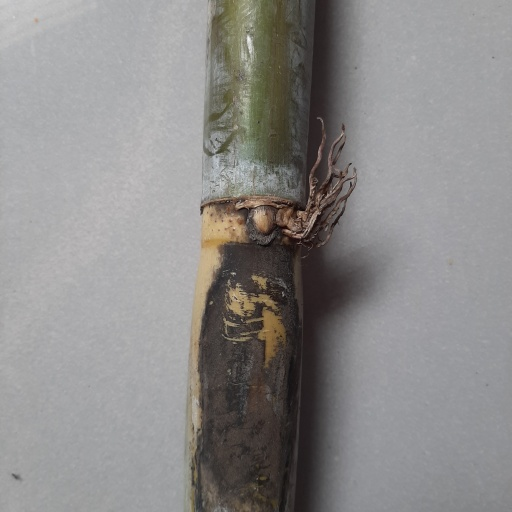Bud: (249, 204, 277, 237)
